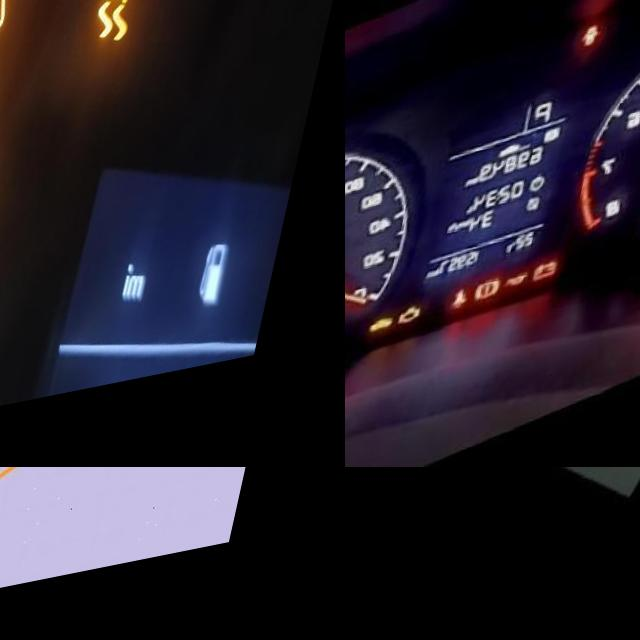Seat Belt: (478, 292, 500, 315)
